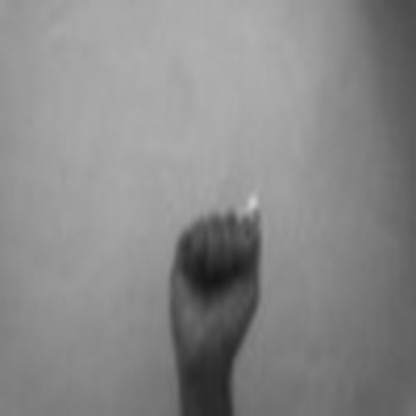a: (162, 191, 270, 371)
